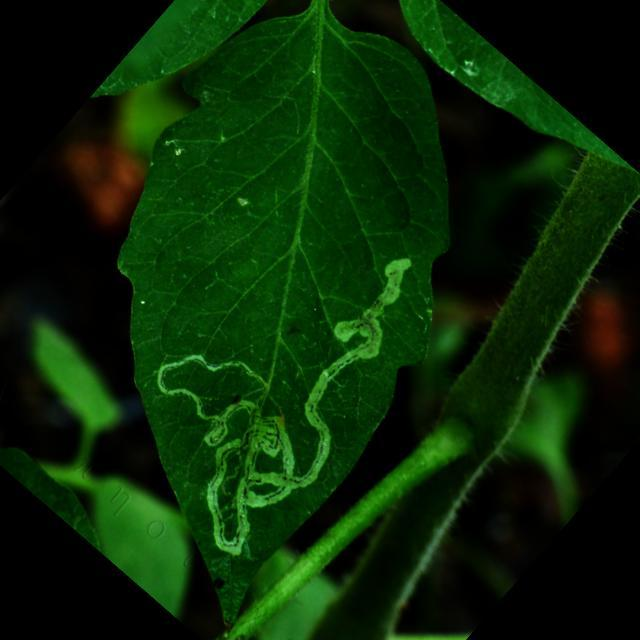Tomato target spot leaf: (0, 0, 594, 635)
